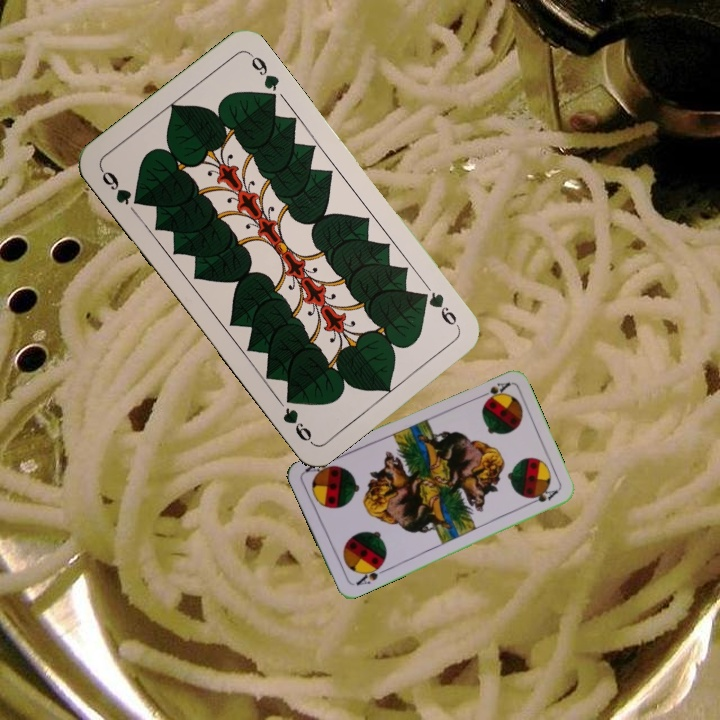G9: (96, 165, 145, 208), (415, 287, 462, 331)
SA: (474, 378, 513, 404), (352, 560, 388, 588)
